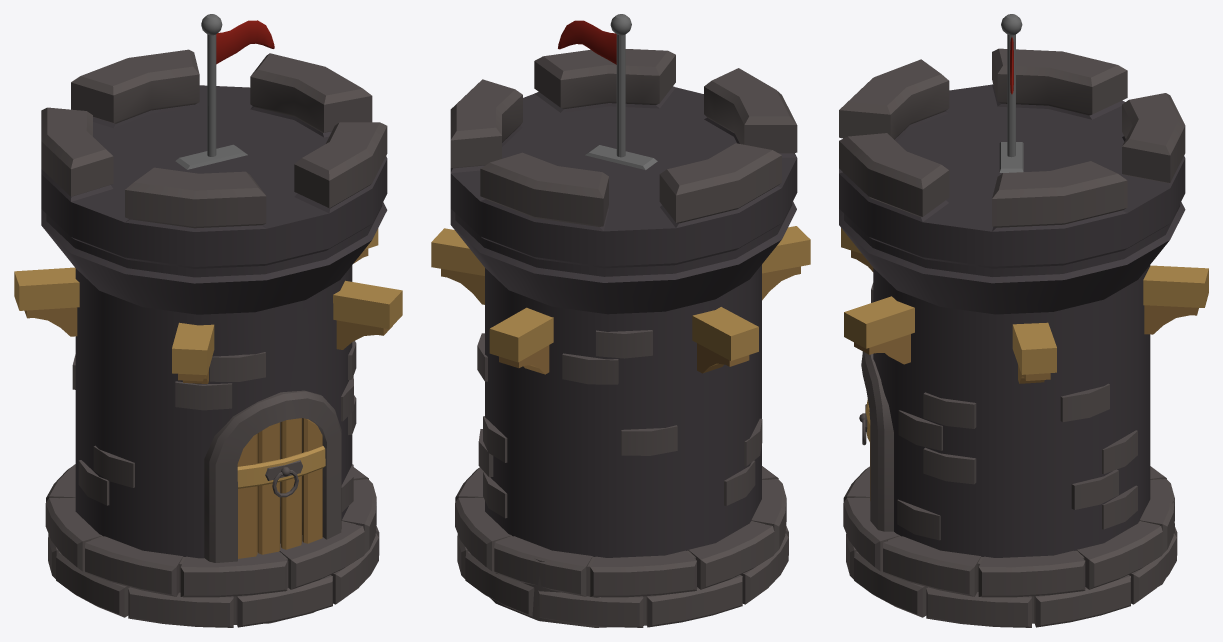
Rendered from tower.glb.
3 views of the same model, side by side, from view 1: azimuth 30°, elevation 25°; view 2: azimuth 150°, elevation 25°; view 3: azimuth 270°, elevation 25° (orthographic).
Visible parts, largest first — view 1: Tower, Tower_Door; view 2: Tower; view 3: Tower.
Part boxes in pixels (box(x1,y1,x2,y2)): Tower: box(14, 14, 402, 627); Tower_Door: box(237, 418, 325, 558); Tower: box(431, 14, 810, 627); Tower: box(839, 14, 1208, 627).
Size of the model in its own units: 9.44 by 14.6 by 8.98.
